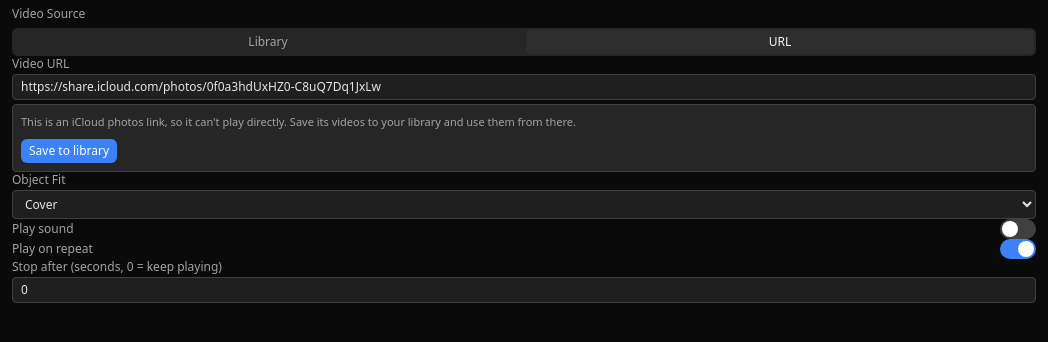
VideoConfigSection — iCloud link auto-select after import › changes nothing when the link held no videos
Click the button "Save to library": [69, 151] box [21,139,117,163]
Wait 1000 ms
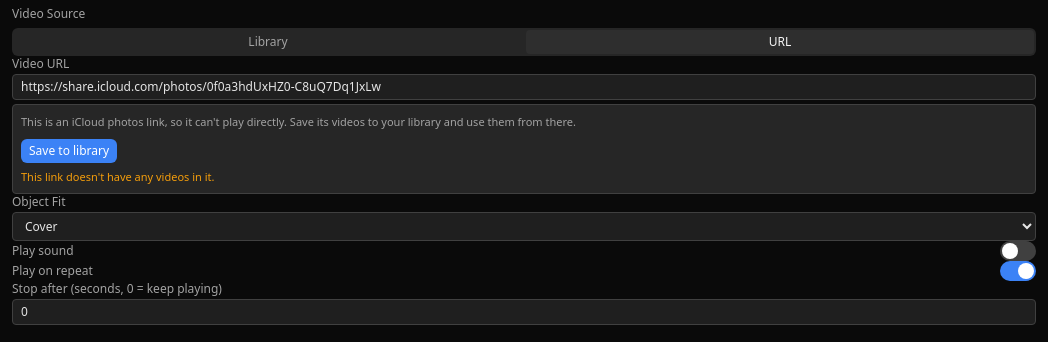
Check: the text "This link doesn't have any videos in it." is shown, box [21,169,214,184]
